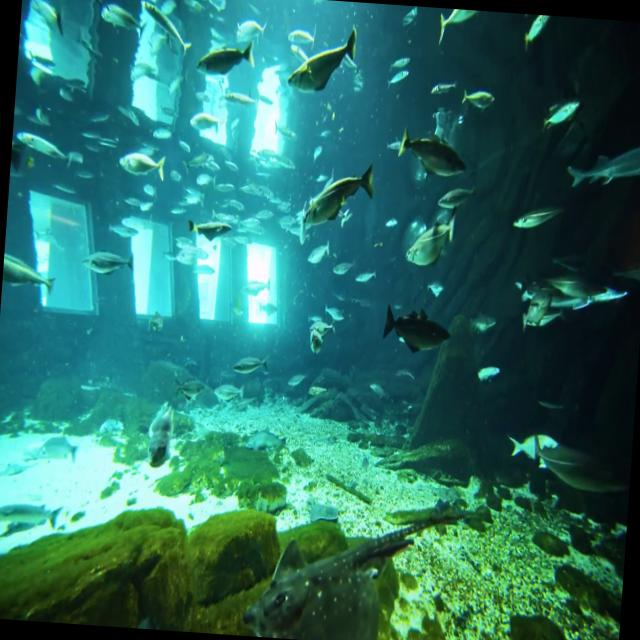fish: (300, 151, 380, 234), (286, 18, 362, 96), (387, 117, 466, 183), (372, 307, 452, 368), (192, 41, 254, 88)
